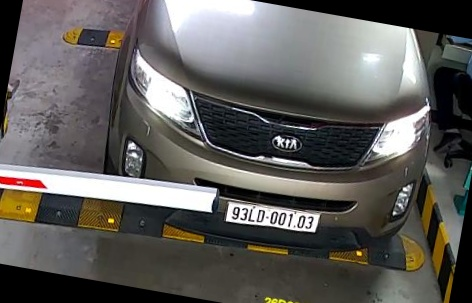plate: (222, 194, 321, 237)
